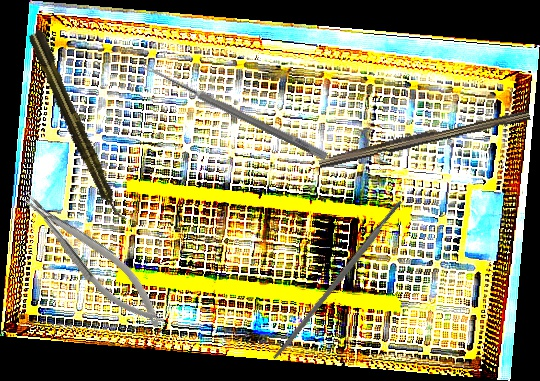Handpiece: (25, 27, 128, 226)
Needle Holder: (12, 175, 174, 341)
Scalpel Handle: (270, 199, 406, 362), (317, 104, 531, 172)
Surgical Spoon: (140, 61, 329, 161)
